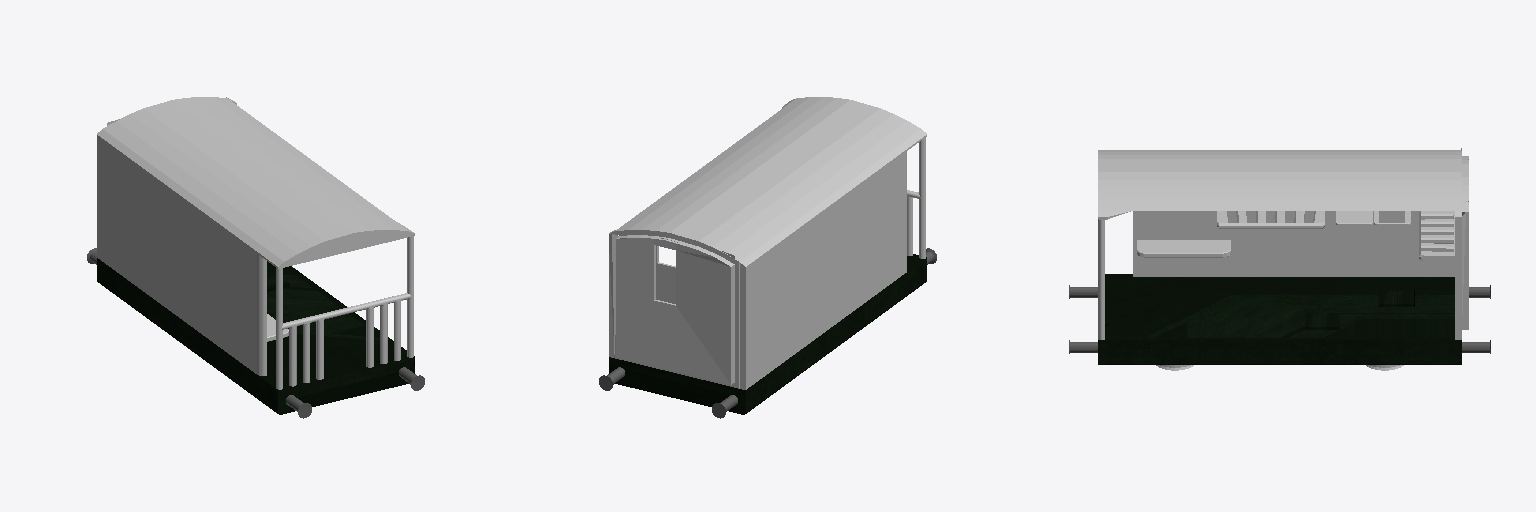
3 renders of one model, left to right at view 1: azimuth 30°, elevation 25°; view 2: azimuth 150°, elevation 25°; view 3: azimuth 270°, elevation 25°, orthographic.
Parts seen in each view (by area): view 1: dach, sciana, podloga; view 2: dach, sciana, drzwi, podloga; view 3: podloga, dach, sciana, Cube.004, drzwi, Cube.002, Cube.003.
Part boxes in pixels (x1,y1,x2,y2): dach: (97,97,414,268); sciana: (100,137,413,389); podloga: (87,248,424,418); dach: (610,97,926,266); sciana: (739,138,925,388); drzwi: (609,232,748,389); podloga: (599,248,936,418); podloga: (1069,274,1490,370); dach: (1098,150,1468,219); sciana: (1098,211,1454,339); Cube.004: (1419,211,1454,262); drzwi: (1455,148,1468,339); Cube.002: (1137,240,1230,257); Cube.003: (1217,211,1324,228).
Bounding box in the file's own units: 5.66 × 6.92 × 15.09.
12 materials, 2 textured.